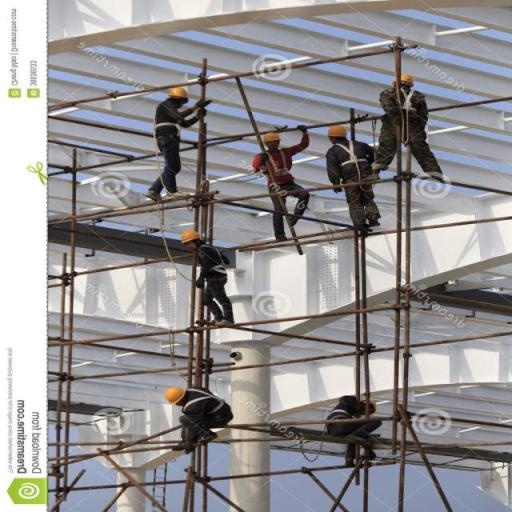helmet: (162, 386, 186, 404), (167, 86, 190, 100), (179, 229, 201, 243), (326, 124, 346, 138), (262, 132, 280, 142), (399, 74, 414, 84)
vest: (261, 148, 292, 183), (330, 142, 358, 169)
